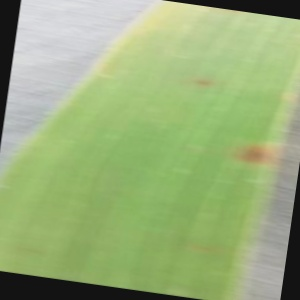Bacterial_Leaf_Blight: (229, 137, 279, 171), (191, 75, 216, 89)
